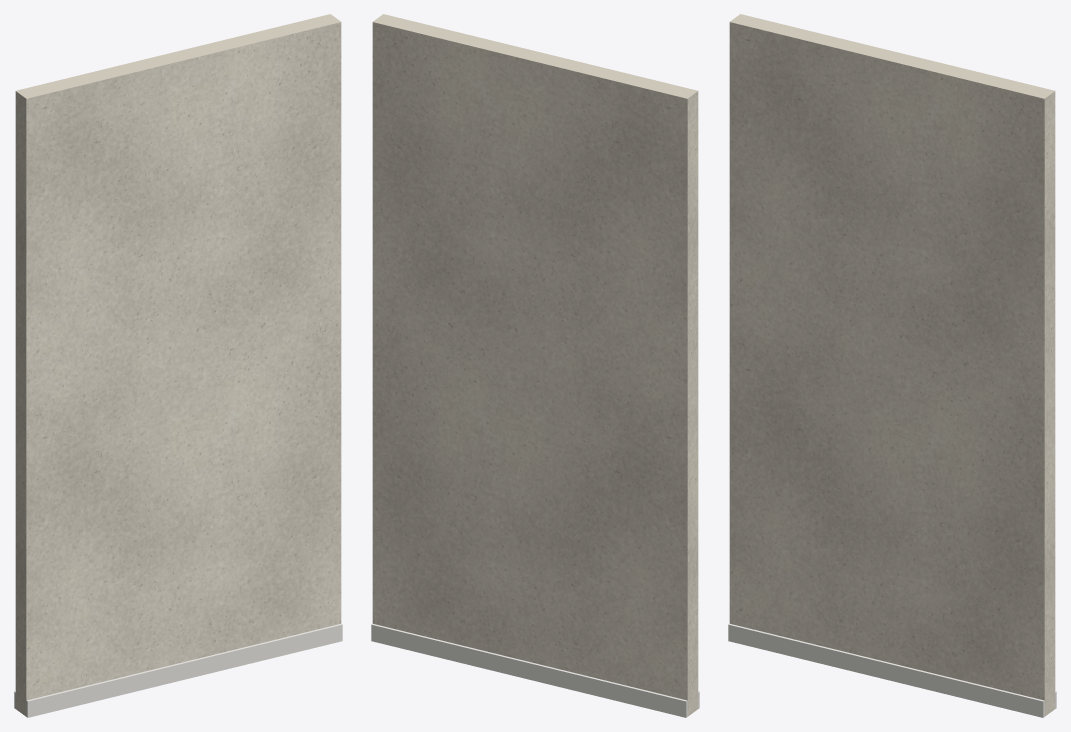
File: interior_wall_plain.glb
3 renders of one model, left to right at view 1: azimuth 30°, elevation 25°; view 2: azimuth 150°, elevation 25°; view 3: azimuth 330°, elevation 25°, orthographic.
Visible parts, largest first — view 1: interior_wall_plain_plaster, interior_wall_plain_trim; view 2: interior_wall_plain_plaster, interior_wall_plain_trim; view 3: interior_wall_plain_plaster, interior_wall_plain_trim.
Part boxes in pixels (bbox=[...]): interior_wall_plain_plaster: bbox=[15, 14, 341, 716]; interior_wall_plain_trim: bbox=[14, 623, 342, 717]; interior_wall_plain_plaster: bbox=[372, 14, 698, 716]; interior_wall_plain_trim: bbox=[371, 623, 699, 717]; interior_wall_plain_plaster: bbox=[729, 14, 1055, 716]; interior_wall_plain_trim: bbox=[728, 623, 1056, 717].
Size of the model in its own units: 2 by 3.75 by 0.15.
2 materials, 1 textured.
